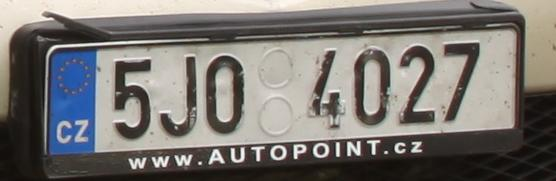0: (351, 45, 394, 128), (204, 56, 247, 134)
2: (398, 43, 439, 125)
4: (305, 49, 348, 131)
5: (111, 58, 153, 141)
7: (440, 40, 483, 125)
J: (159, 57, 204, 139)
